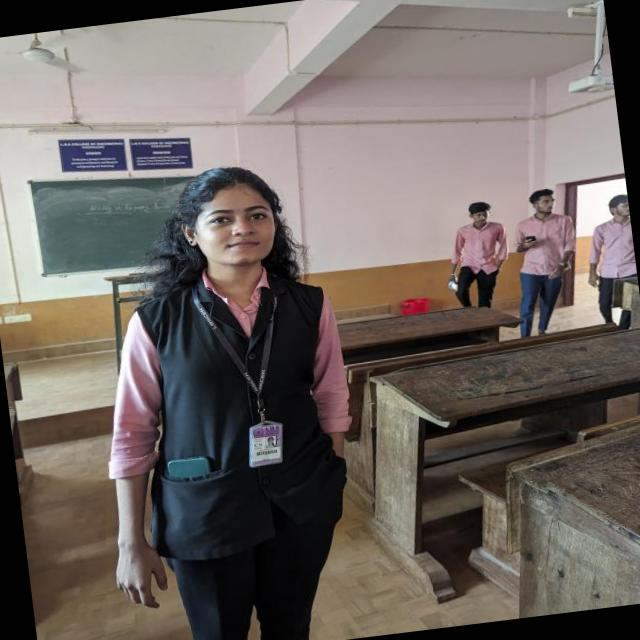id_card: (198, 267, 296, 473)
